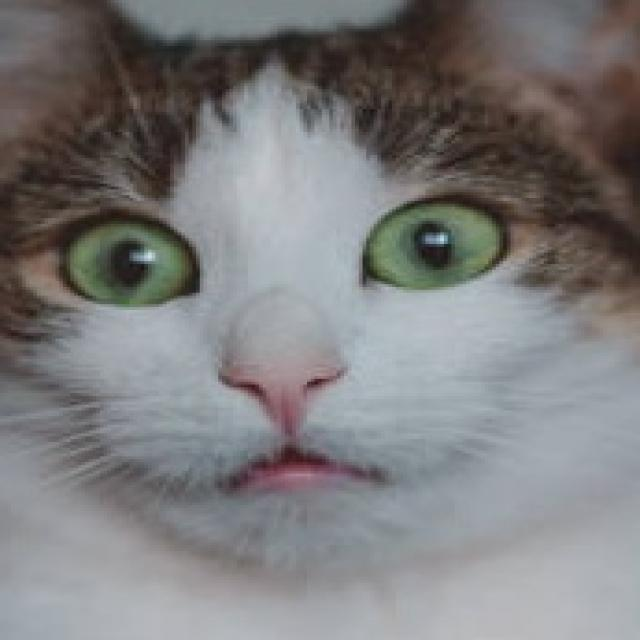Anxiety: (15, 22, 627, 571)
